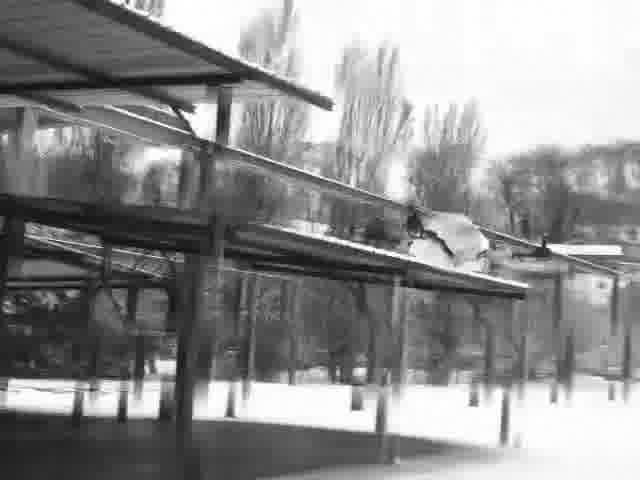drone: (368, 189, 562, 280)
